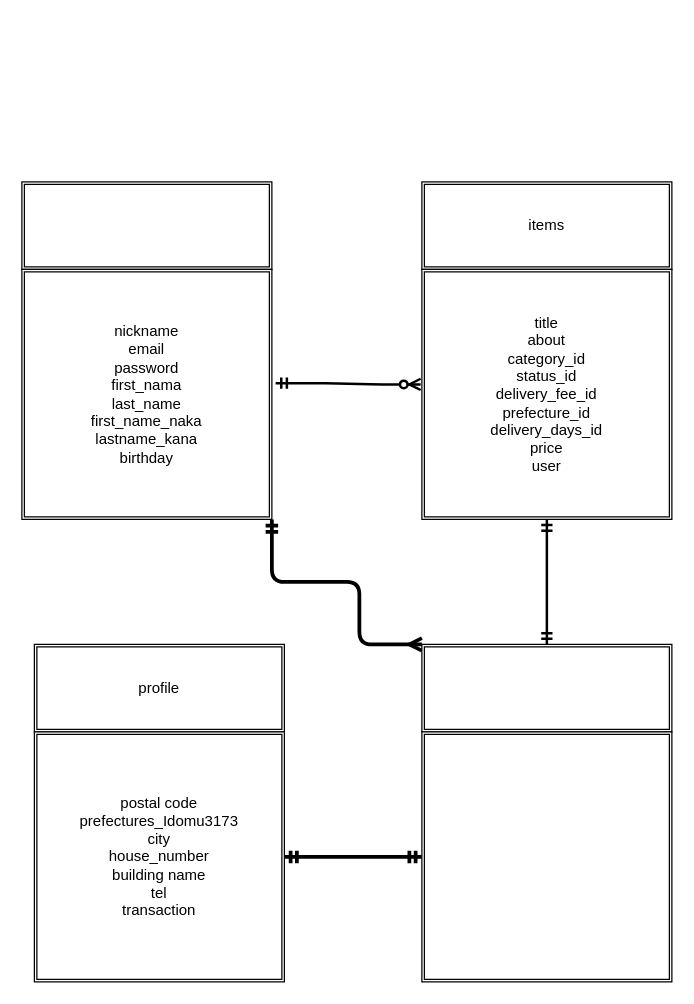
The diagram is 694 pixels wide and 1004 high, and some of its shapes have lost their labels. Each missing label, with the centre of its shape:
transaction: (546,687)
user item: (546,856)
users: (146,225)
